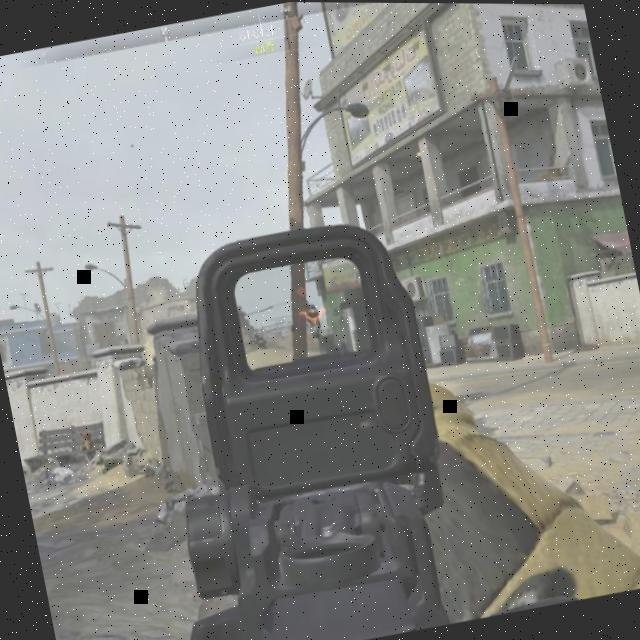MW2_body: (296, 285, 326, 350), (249, 332, 269, 352)
